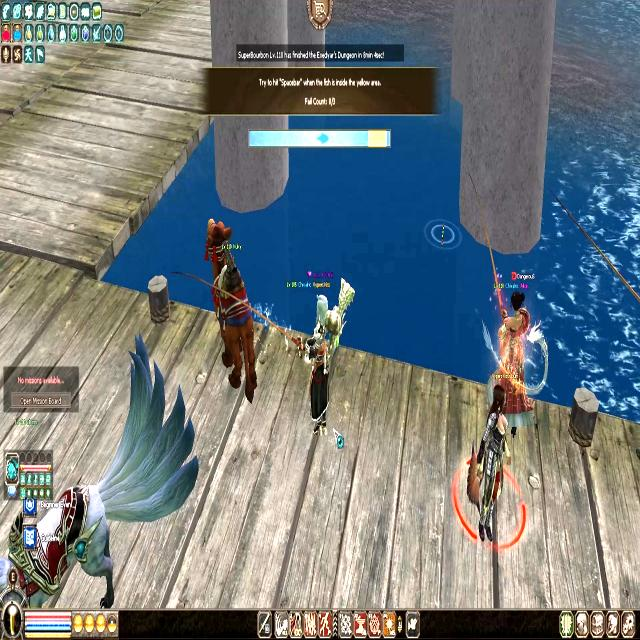fishes: (316, 132, 329, 146)
